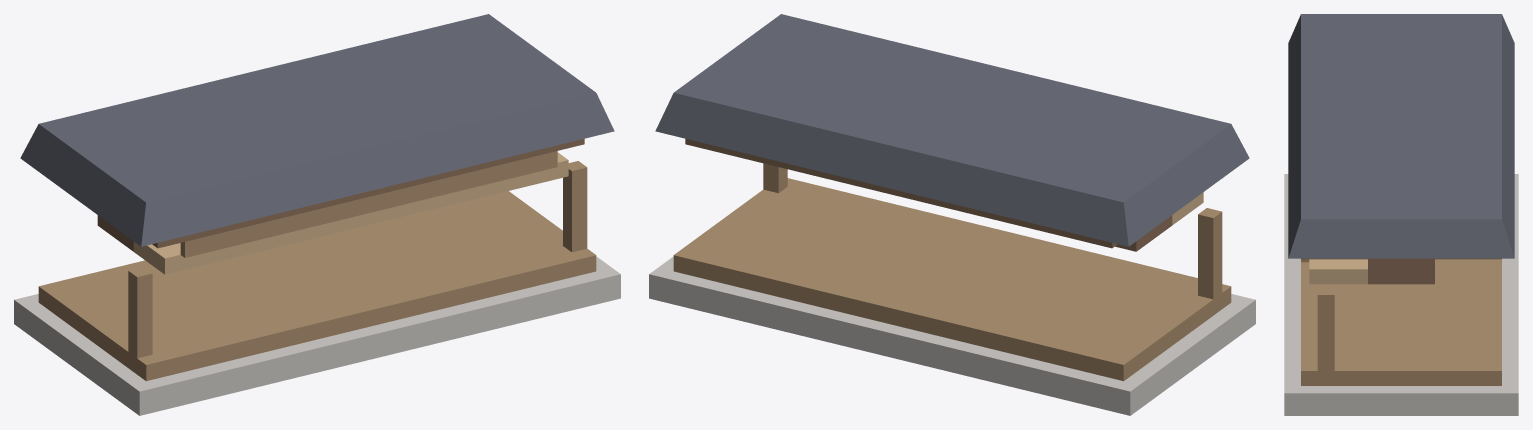
Rendered from station_凉亭.glb.
3 renders of one model, left to right at view 1: azimuth 30°, elevation 25°; view 2: azimuth 150°, elevation 25°; view 3: azimuth 270°, elevation 25°, orthographic. The views are drawn at different scales.
Parts seen in each view (by area): view 1: 凉亭; view 2: 凉亭; view 3: 凉亭.
Part boxes in pixels (bbox=[...]): 凉亭: bbox=[14, 14, 620, 415]; 凉亭: bbox=[649, 14, 1255, 415]; 凉亭: bbox=[1284, 14, 1518, 415].
Size of the model in its own units: 1.24 by 0.5 by 0.56.
